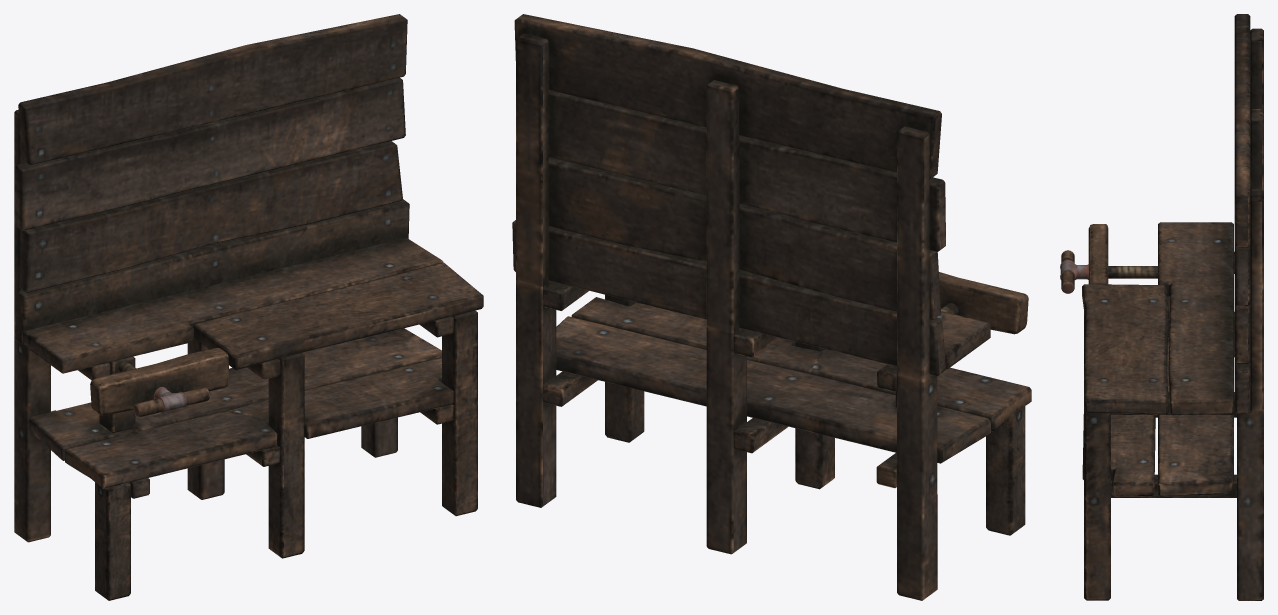
File: smith_bench.glb
The picture shows the model from 3 angles, left to right: view 1: azimuth 30°, elevation 25°; view 2: azimuth 150°, elevation 25°; view 3: azimuth 270°, elevation 25°; orthographic projection. The views are drawn at different scales.
Visible parts, largest first — view 1: SM_WorkBench2_144_M_WorkBench_0; view 2: SM_WorkBench2_144_M_WorkBench_0; view 3: SM_WorkBench2_144_M_WorkBench_0.
Part boxes in pixels (<box>): SM_WorkBench2_144_M_WorkBench_0: <box>14,14,483,600</box>; SM_WorkBench2_144_M_WorkBench_0: <box>512,14,1031,600</box>; SM_WorkBench2_144_M_WorkBench_0: <box>1060,14,1263,600</box>.
Bounding box in the file's own units: 202 × 218 × 96.45.
Materials: 1 (1 with a texture image).
